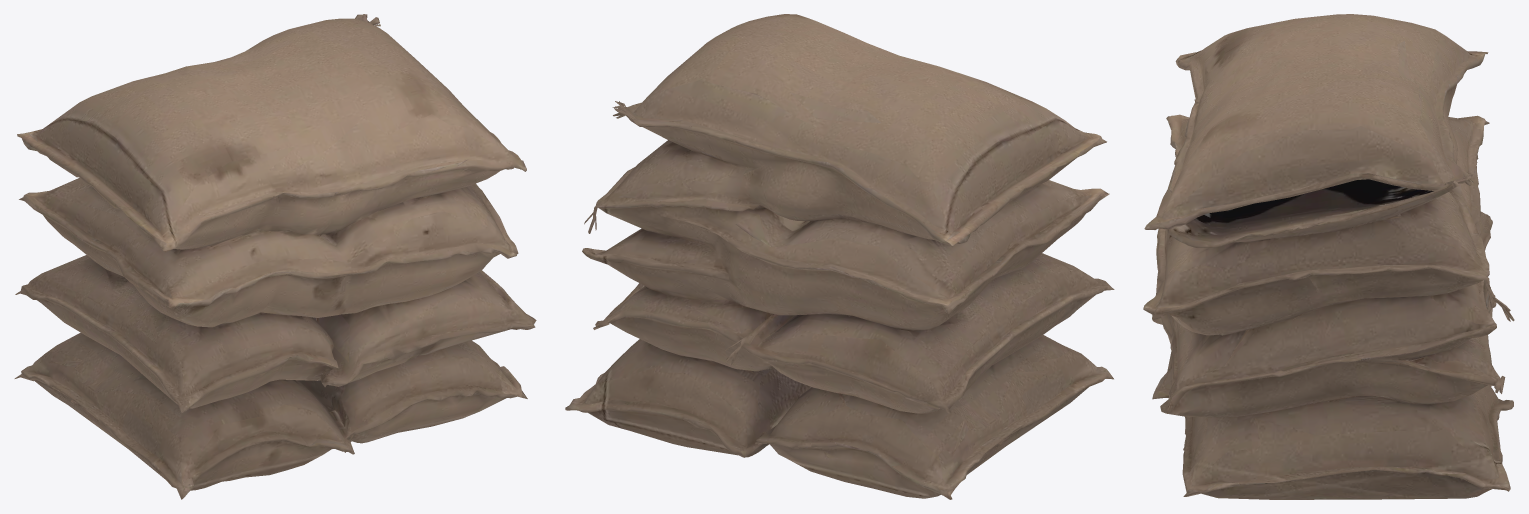
File: sandbags.glb
The picture shows the model from 3 angles, left to right: view 1: azimuth 30°, elevation 25°; view 2: azimuth 150°, elevation 25°; view 3: azimuth 270°, elevation 25°; orthographic projection. The views are drawn at different scales.
Parts seen in each view (by area): view 1: Mesh_0; view 2: Mesh_0; view 3: Mesh_0.
Boxes of the visible parts, x1=… form: Mesh_0: x1=14, y1=14, x2=536, y2=499; Mesh_0: x1=565, y1=14, x2=1114, y2=499; Mesh_0: x1=1143, y1=14, x2=1514, y2=499.
Bounding box in the file's own units: 1.9 × 1.75 × 1.58.
1 material, 1 textured.
